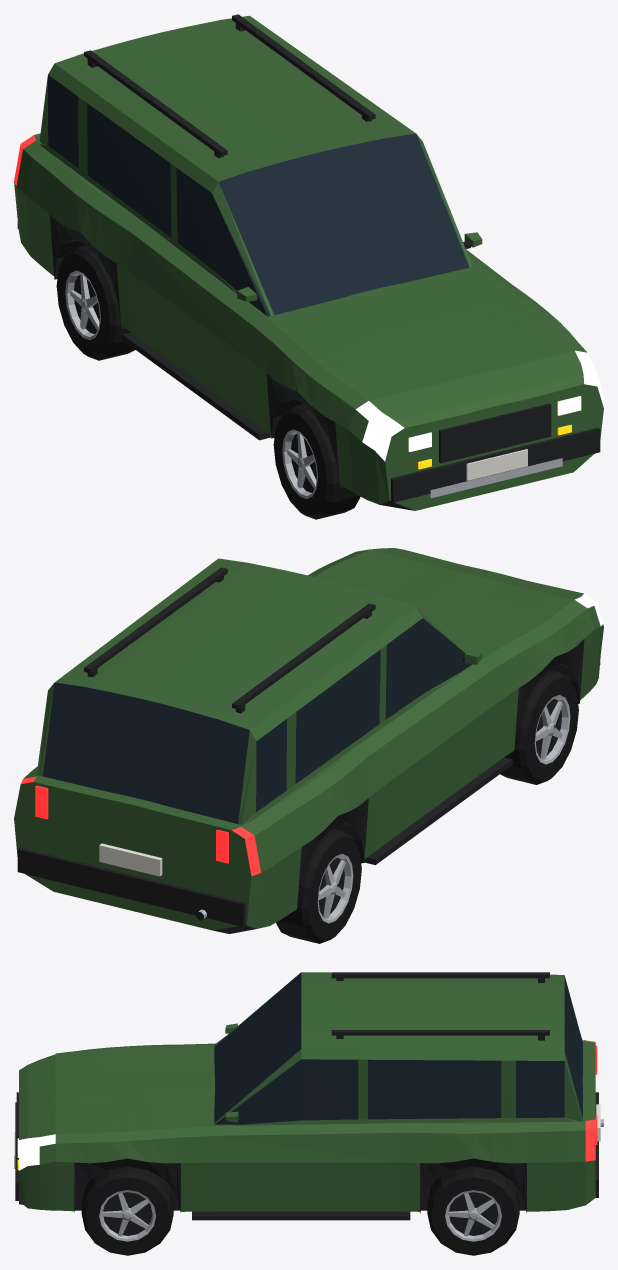
File: suv-01.glb
3 renders of one model, top to bottom at view 1: azimuth 30°, elevation 25°; view 2: azimuth 150°, elevation 25°; view 3: azimuth 270°, elevation 25°, orthographic. The views are drawn at different scales.
Parts seen in each view (by area): view 1: Body, Wheel_FR, Wheel_RR; view 2: Body, Wheel_RR, Wheel_FR; view 3: Body, Wheel_RL, Wheel_FL.
Boxes of the visible parts, x1,y1,x2,y2 form: Body: (14, 14, 603, 510); Wheel_FR: (273, 404, 360, 519); Wheel_RR: (56, 245, 135, 360); Body: (14, 548, 603, 933); Wheel_RR: (276, 828, 361, 943); Wheel_FR: (500, 669, 578, 784); Body: (14, 972, 603, 1220); Wheel_RL: (427, 1166, 519, 1255); Wheel_FL: (81, 1166, 173, 1255).
Size of the model in its own units: 1.95 by 1.87 by 4.86.
